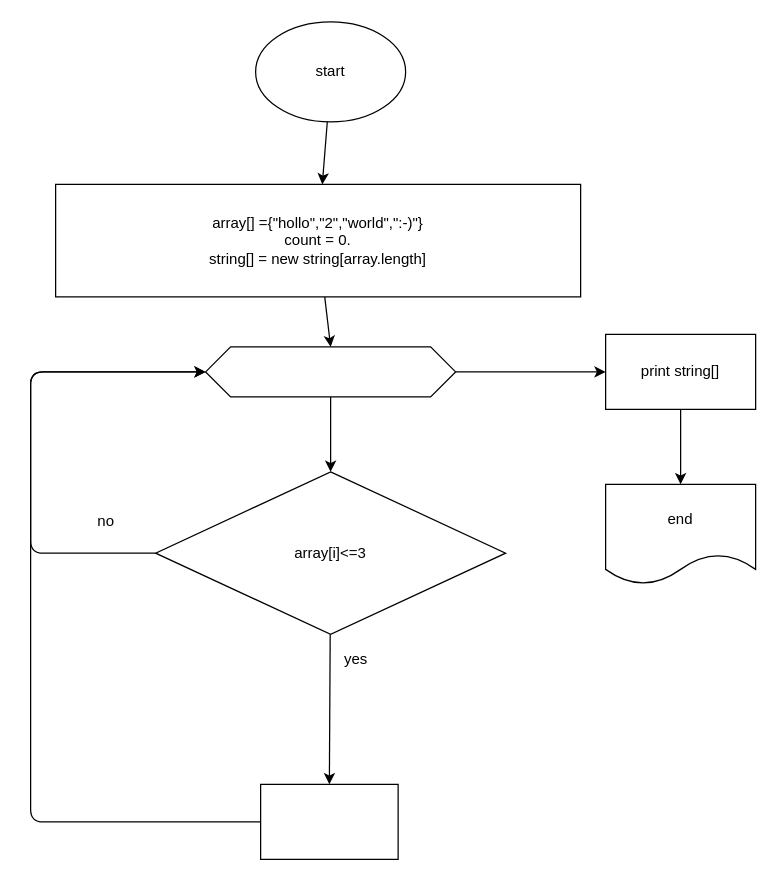
This 778x881 diagram has some shape labels left out. Here are the shapes that lost their labels. From the top down, the centre of each, then its label:
[330,371]: i=0;i < array.length; i++
[328,821]: string[count] = array[i] count++
